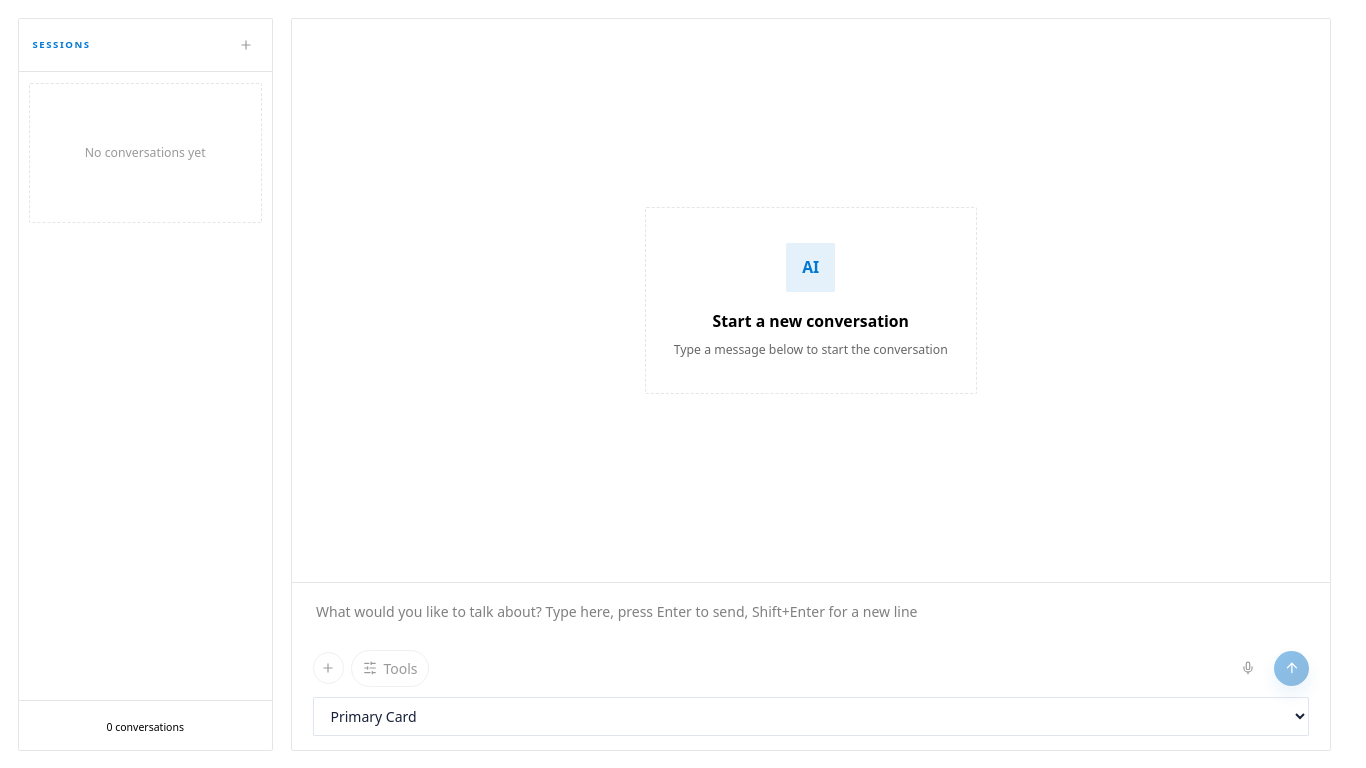
Scenario: AiChatPage › creates a session on first send when no session is selected
Expected: the text "No conversations yet" is shown, [85,144,206,161]
Type "  Auto title test  " into the text box with placeholder "What would you like to talk about? Type here, press Enter to send, Shift+Enter for a new line" at (811, 616), box [312,597,1309,634]
Then press Enter
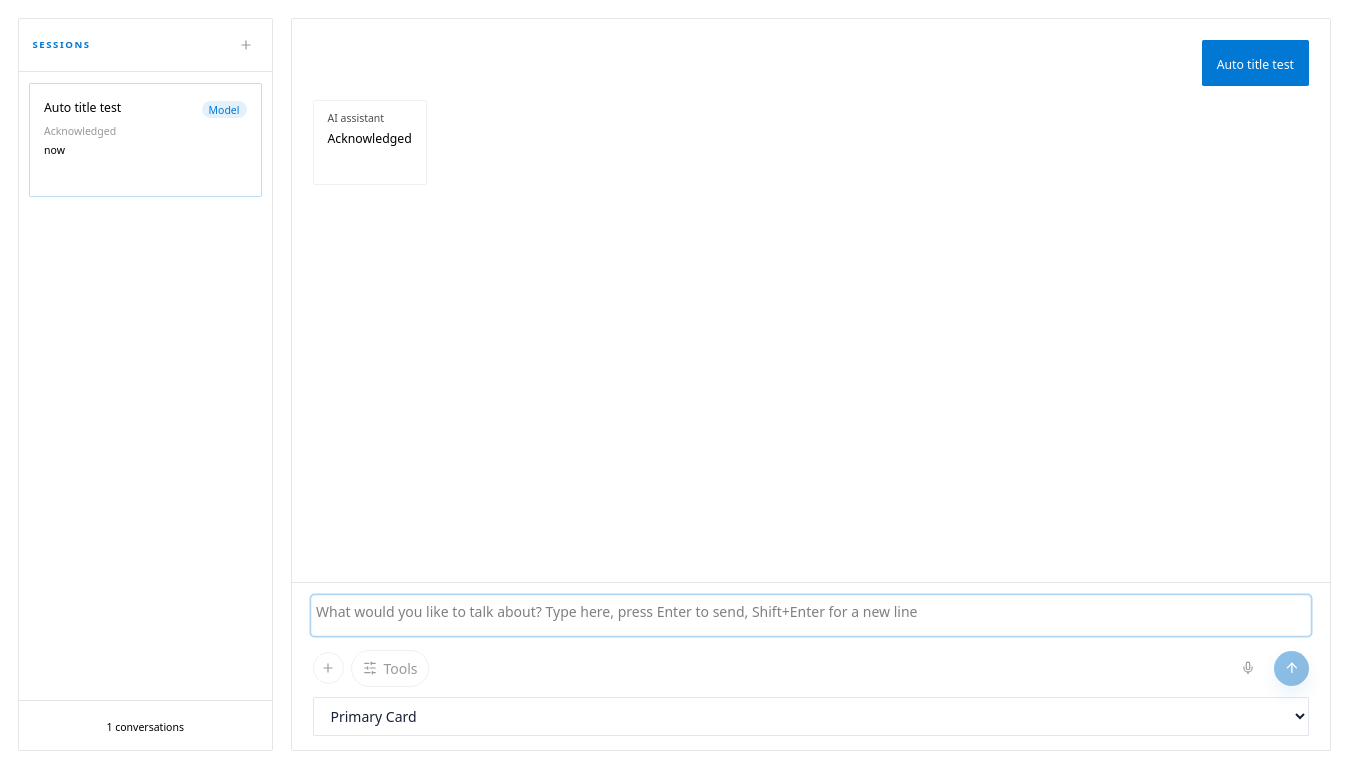
Expected: the text "Auto title test" below "Sessions" is shown, [44,99,121,116]
Expected: the text "Acknowledged" below "Sessions" is shown, [44,124,116,138]
